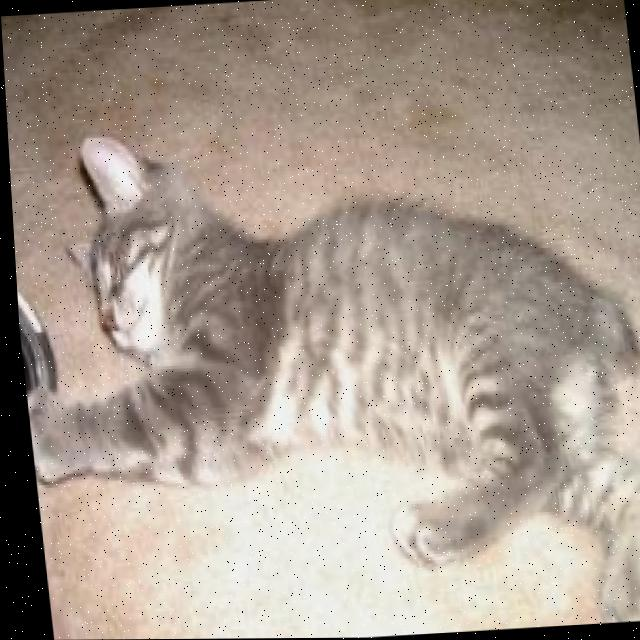American Bobtail: (5, 97, 640, 640)
